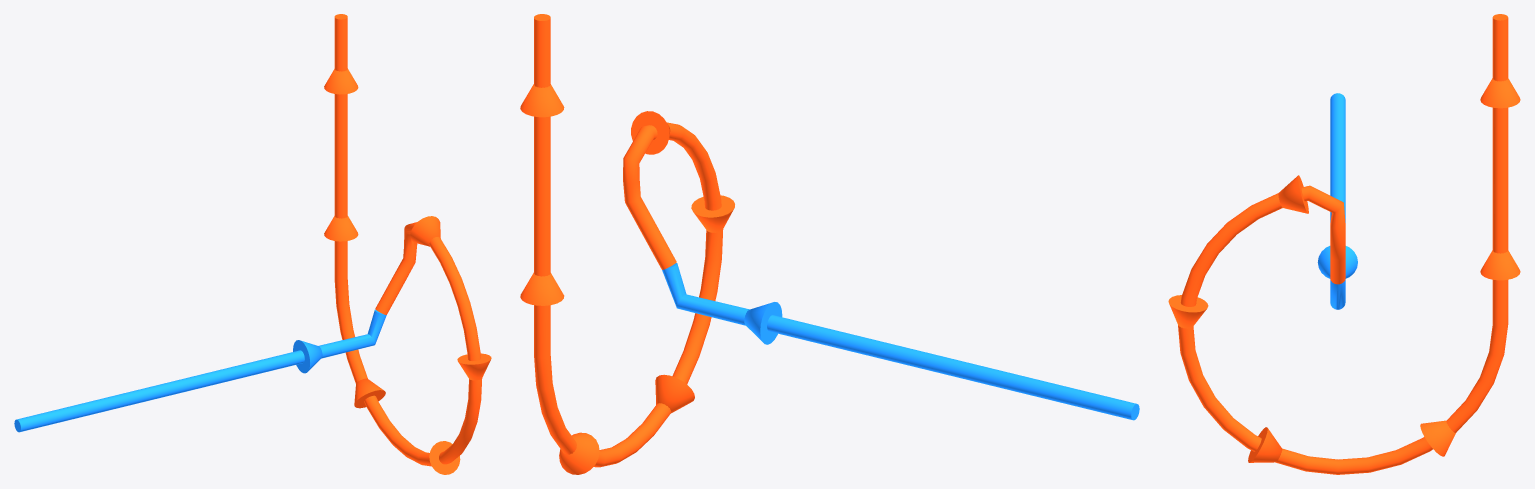
The model's file is magnetic_drive_pump_flow.glb.
3 views of the same model, side by side, from view 1: azimuth 30°, elevation 25°; view 2: azimuth 150°, elevation 25°; view 3: azimuth 270°, elevation 25° (orthographic). The views are drawn at different scales.
Parts seen in each view (by area): view 1: flow_discharge, flow_suction; view 2: flow_discharge, flow_suction; view 3: flow_discharge, flow_suction.
Part boxes in pixels (left/top/right/bottom): flow_discharge: left=324, top=14, right=491, bottom=474; flow_suction: left=14, top=309, right=386, bottom=432; flow_discharge: left=520, top=14, right=734, bottom=474; flow_suction: left=662, top=263, right=1139, bottom=420; flow_discharge: left=1168, top=14, right=1520, bottom=474; flow_suction: left=1317, top=93, right=1357, bottom=309.
Bounding box in the file's own units: 0.4267 × 0.3903 × 0.2726.
